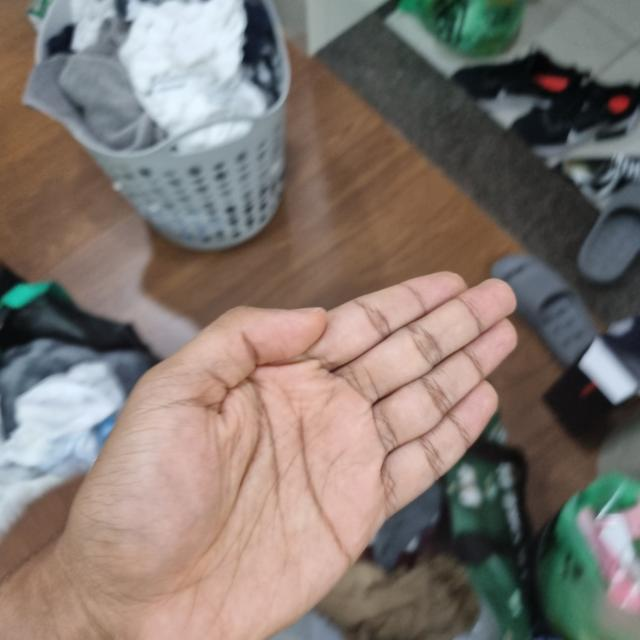Paper: (61, 294, 397, 638)
